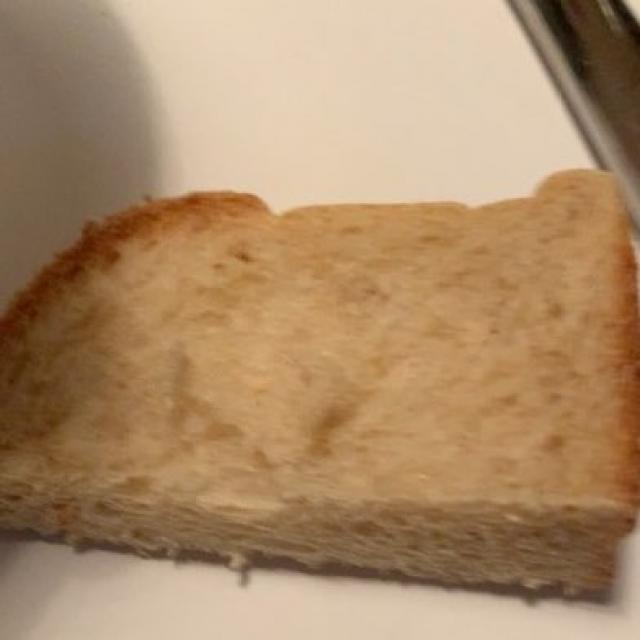bread-whole-wheat: (6, 186, 631, 595)
